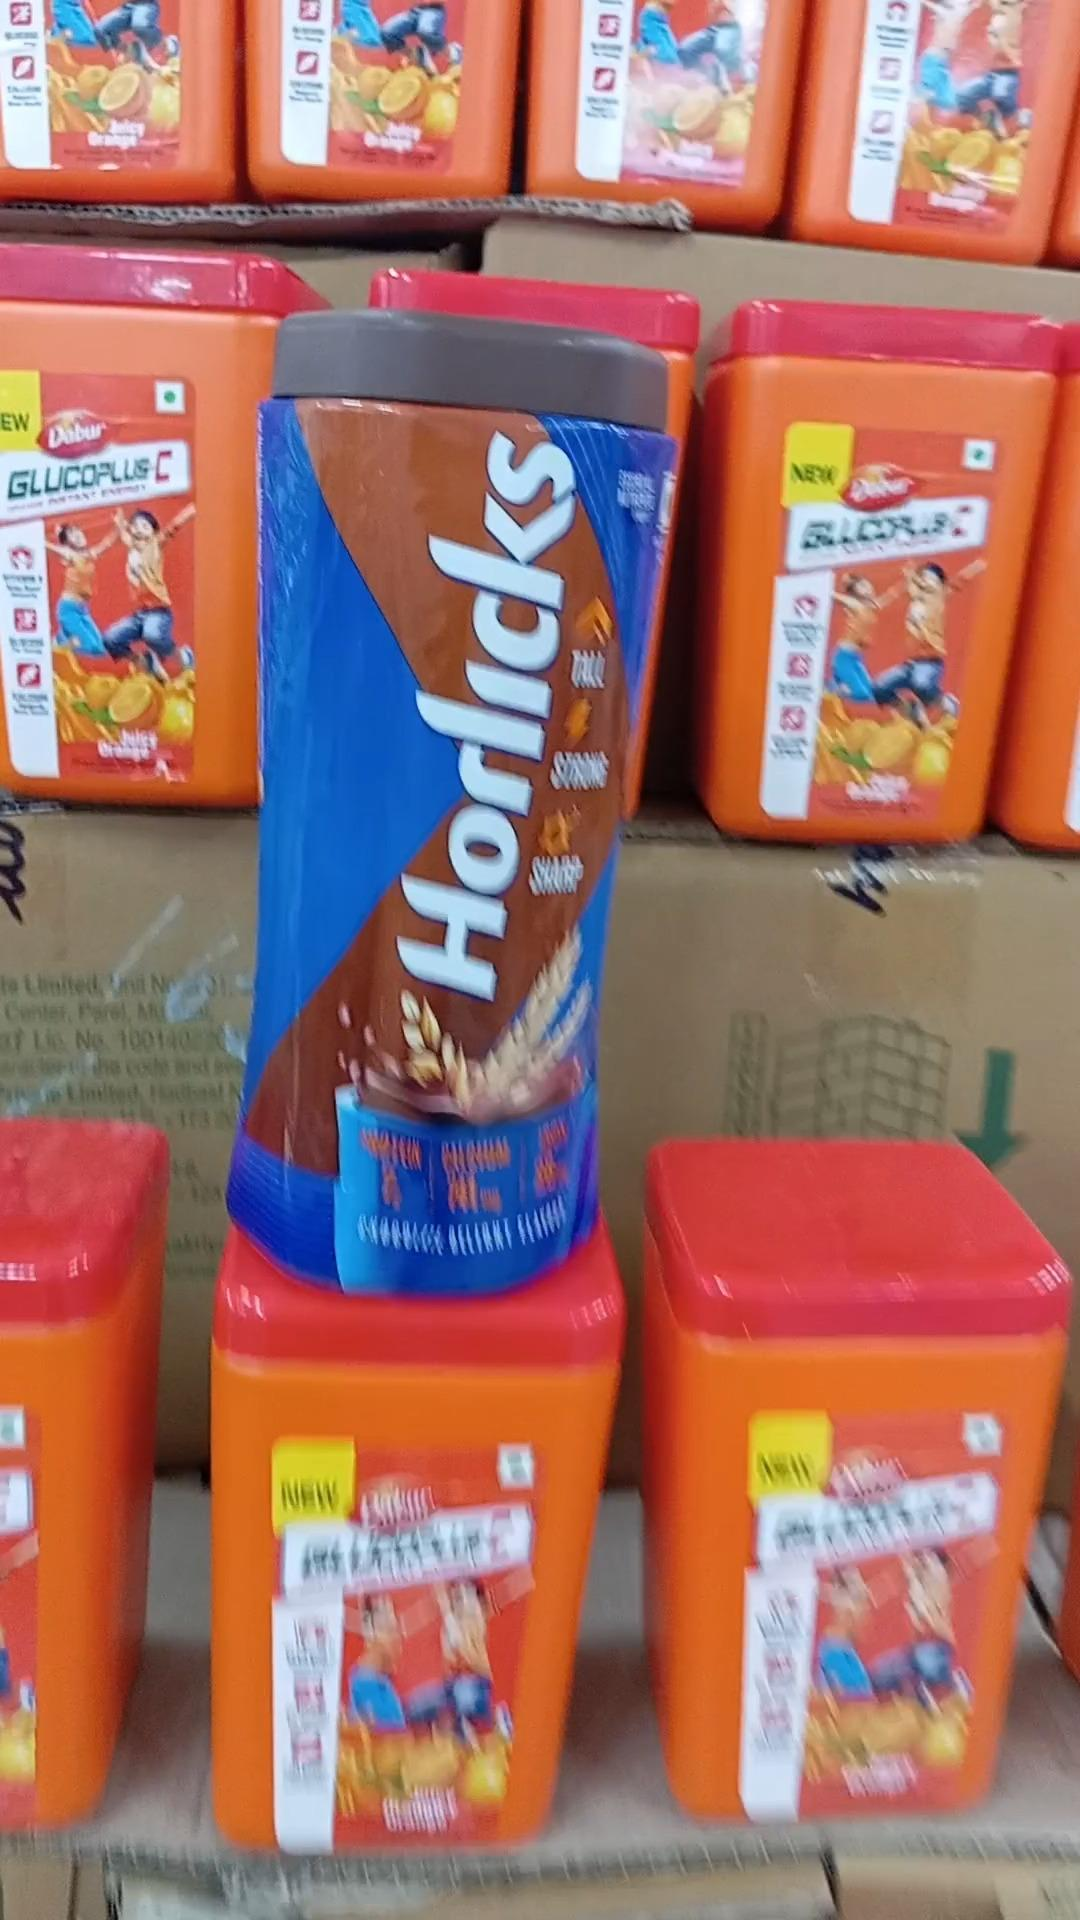HORLICK_CHOCOLATE_1_KG_JAR: (225, 299, 680, 1296)
